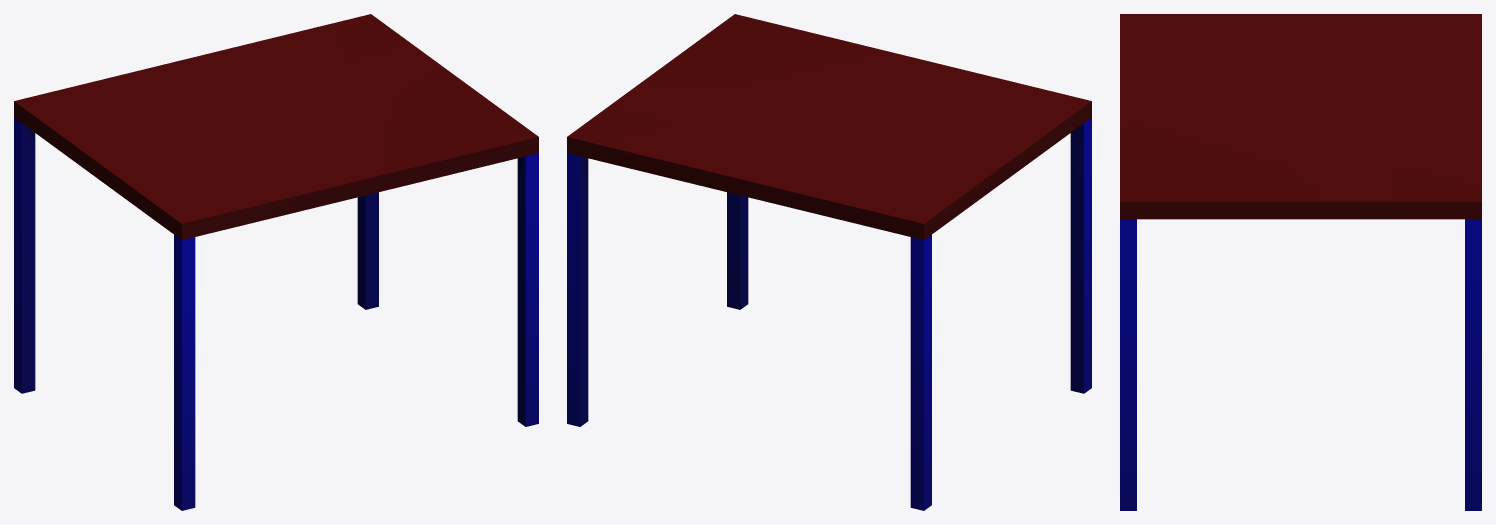
Rendered from SchoolTable.glb.
The picture shows the model from 3 angles, left to right: view 1: azimuth 30°, elevation 25°; view 2: azimuth 150°, elevation 25°; view 3: azimuth 270°, elevation 25°; orthographic projection. The views are drawn at different scales.
Visible parts, largest first — view 1: SchoolTable; view 2: SchoolTable; view 3: SchoolTable.
Part boxes in pixels (left/top/right/bottom): SchoolTable: left=14, top=14, right=538, bottom=510; SchoolTable: left=567, top=14, right=1091, bottom=510; SchoolTable: left=1120, top=14, right=1481, bottom=510.
Bounding box in the file's own units: 5.88 × 4.51 × 4.79.
